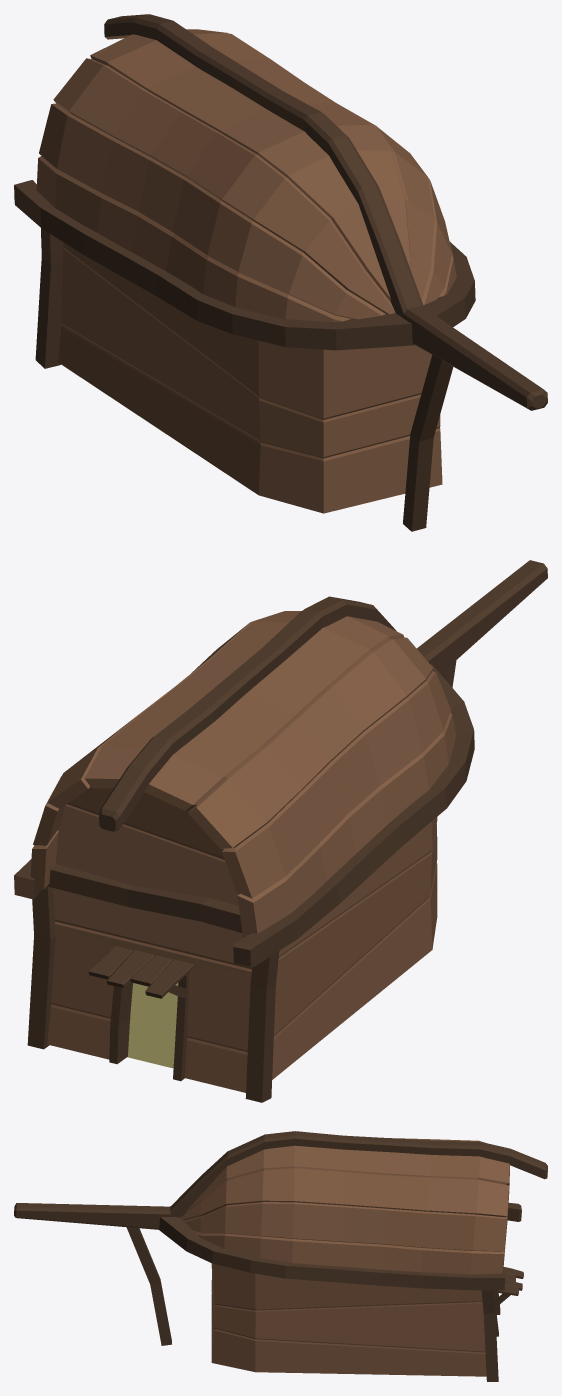
File: Shop_1F.fbx
3 views of the same model, one above another, from view 1: azimuth 30°, elevation 25°; view 2: azimuth 150°, elevation 25°; view 3: azimuth 270°, elevation 25° (orthographic). The views are drawn at different scales.
Visible parts, largest first — view 1: Shop_1F; view 2: Shop_1F; view 3: Shop_1F.
Boxes of the visible parts, x1,y1,x2,y2 form: Shop_1F: [14, 14, 547, 531]; Shop_1F: [14, 560, 547, 1102]; Shop_1F: [14, 1131, 547, 1381].
Bounding box in the file's own units: 230 × 289 × 656.
